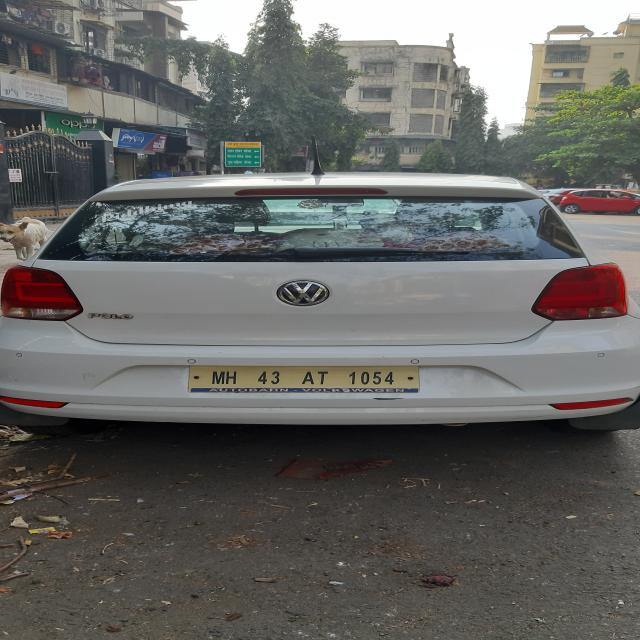Number-Plate: (186, 364, 419, 394)
